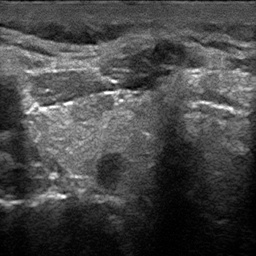mass: (95, 153, 125, 190)
